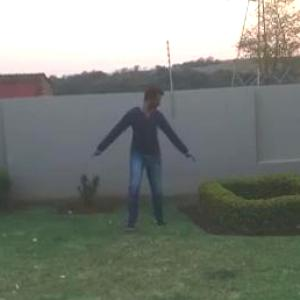land: (90, 90, 195, 236)
